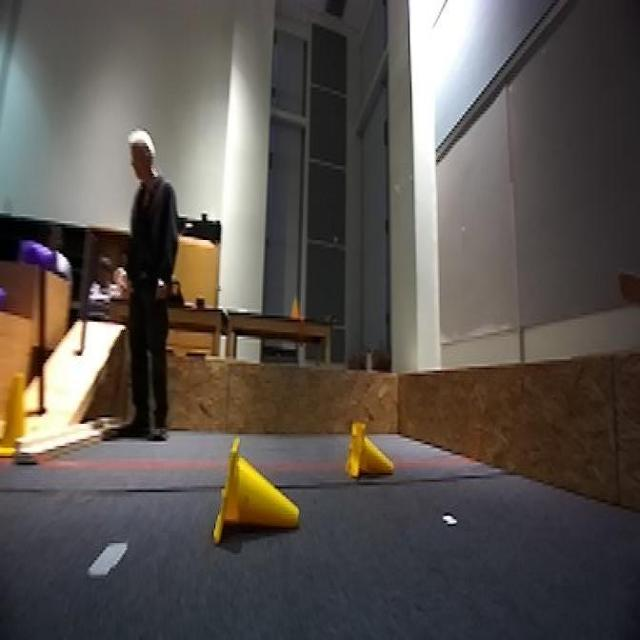frc_cone: (210, 441, 296, 546), (347, 421, 396, 484), (0, 369, 30, 457)
frc_cube: (20, 237, 63, 276)
